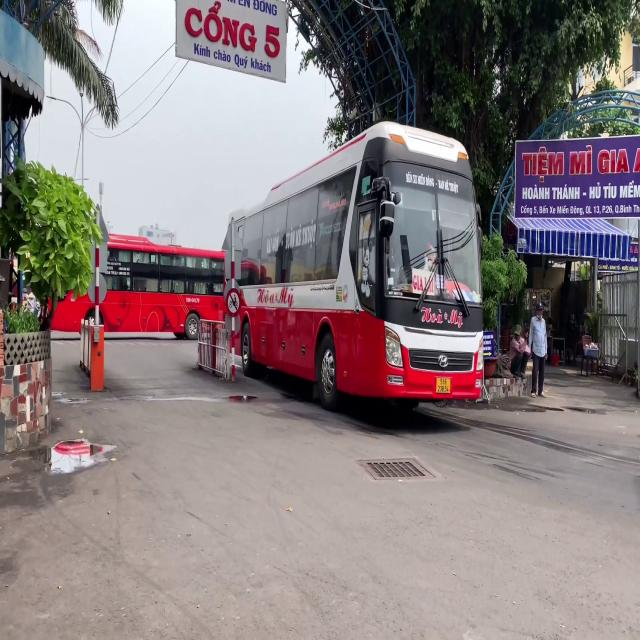bien_vang: (436, 376, 451, 394)
